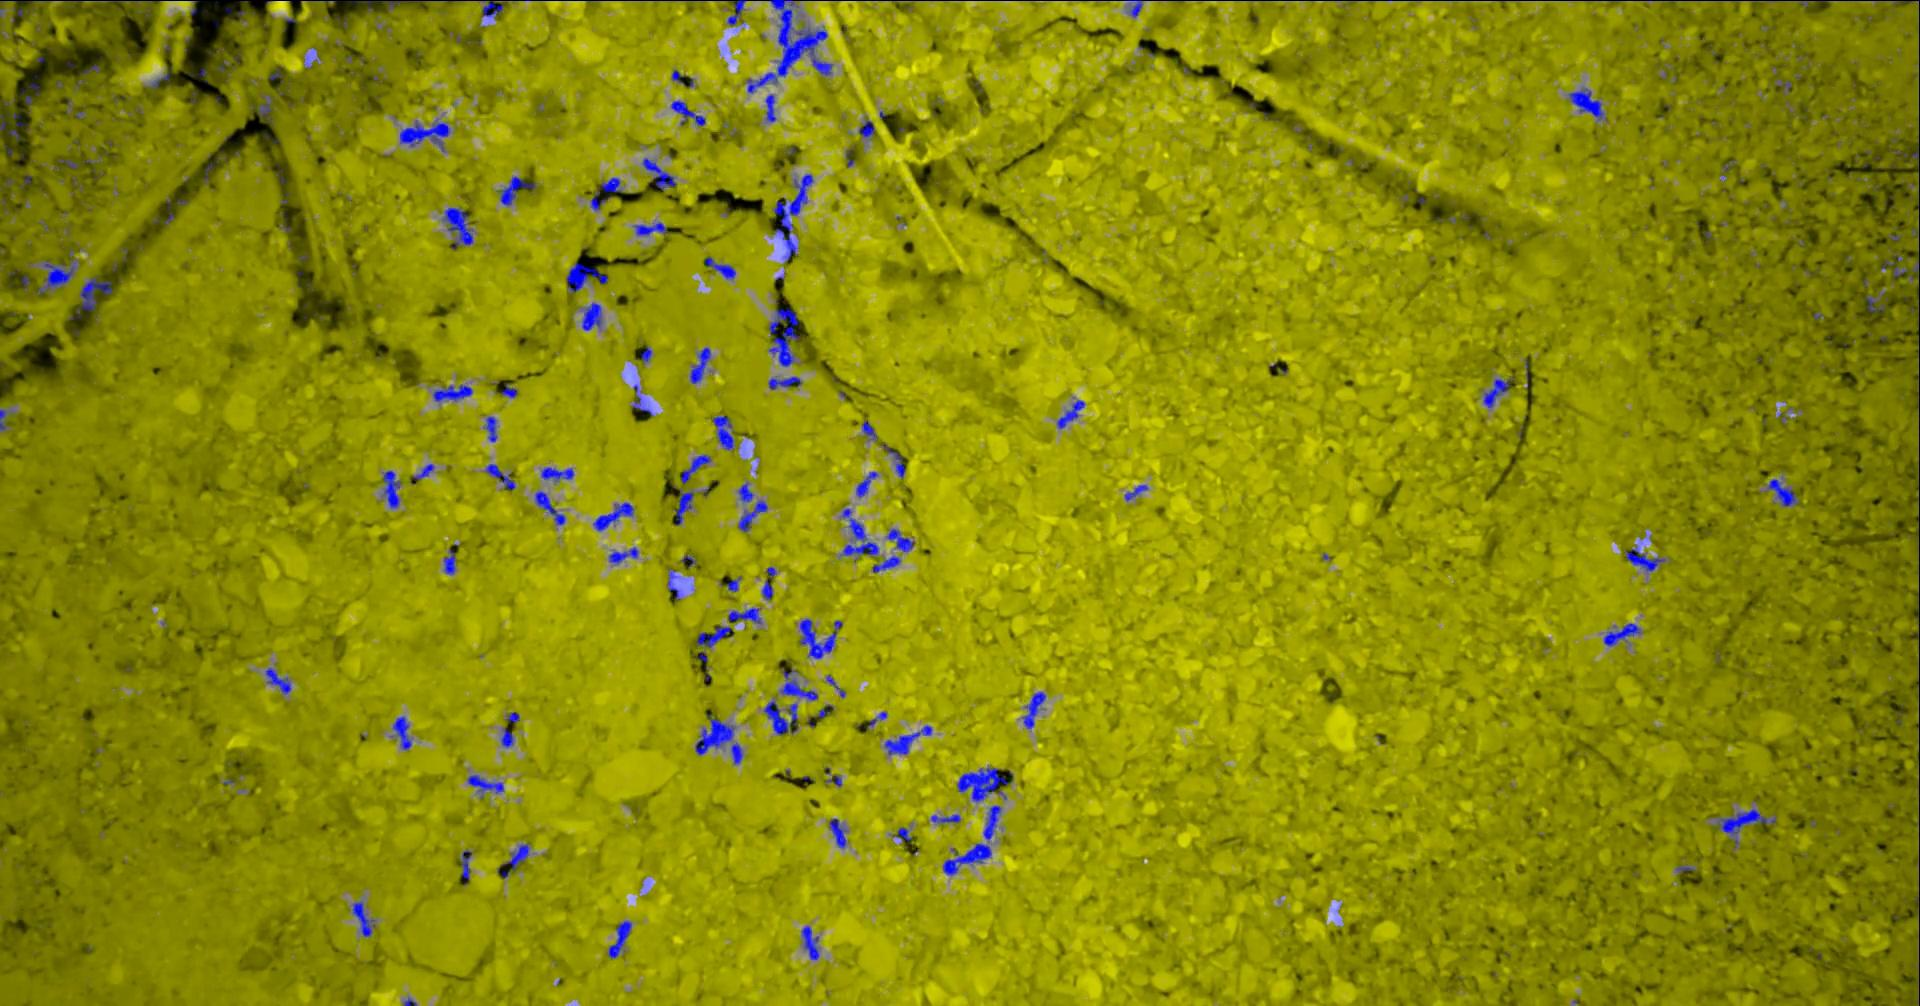ant: (773, 174, 813, 260), (1717, 808, 1775, 848), (69, 276, 112, 319), (839, 508, 877, 555), (956, 767, 1008, 801), (768, 307, 799, 366), (799, 619, 842, 658), (695, 713, 734, 754), (399, 119, 450, 151), (942, 843, 990, 875), (884, 725, 931, 754), (36, 259, 75, 293), (565, 262, 607, 293), (443, 207, 472, 249), (763, 700, 797, 735), (1568, 88, 1605, 119), (592, 502, 632, 530), (641, 158, 676, 191), (780, 669, 817, 700), (497, 177, 535, 206), (1624, 545, 1665, 572), (590, 177, 621, 210), (535, 492, 565, 525), (1895, 133, 1919, 171), (1603, 622, 1641, 647), (738, 500, 767, 531), (1768, 478, 1799, 506), (608, 920, 631, 958), (467, 774, 503, 798), (350, 901, 375, 936), (681, 453, 710, 483), (1022, 691, 1045, 728), (670, 100, 705, 124), (1057, 399, 1084, 428), (356, 0, 427, 11), (485, 464, 516, 490), (695, 625, 730, 647), (883, 445, 905, 478), (690, 347, 710, 384), (503, 843, 530, 871), (703, 257, 735, 279), (674, 486, 693, 525), (432, 384, 472, 401), (1483, 379, 1509, 406), (382, 470, 400, 508), (712, 415, 733, 448), (265, 667, 290, 694), (886, 528, 914, 551), (392, 716, 411, 749), (632, 384, 651, 415), (801, 926, 819, 959), (249, 97, 274, 119), (983, 805, 999, 840), (855, 471, 877, 495), (582, 302, 601, 330), (828, 818, 846, 847), (761, 567, 776, 600), (728, 607, 761, 622), (143, 69, 169, 88), (608, 546, 637, 563), (540, 467, 573, 481), (872, 555, 900, 572), (728, 0, 745, 25), (667, 568, 681, 600), (632, 222, 667, 235), (767, 376, 801, 389), (825, 674, 844, 697), (460, 850, 471, 885), (203, 156, 220, 180), (1124, 484, 1147, 500), (481, 0, 503, 17), (1909, 250, 1919, 285), (737, 481, 753, 502), (866, 711, 886, 728), (411, 464, 433, 479), (1865, 295, 1884, 311), (861, 420, 877, 439), (484, 417, 497, 441), (443, 547, 455, 574), (1124, 0, 1142, 17), (764, 94, 775, 122), (858, 119, 874, 137), (931, 814, 960, 823), (500, 727, 513, 747), (893, 827, 910, 841), (731, 742, 742, 763), (500, 384, 516, 398), (726, 575, 740, 591), (670, 69, 683, 83), (640, 345, 651, 361), (0, 408, 8, 431), (505, 711, 519, 721)
